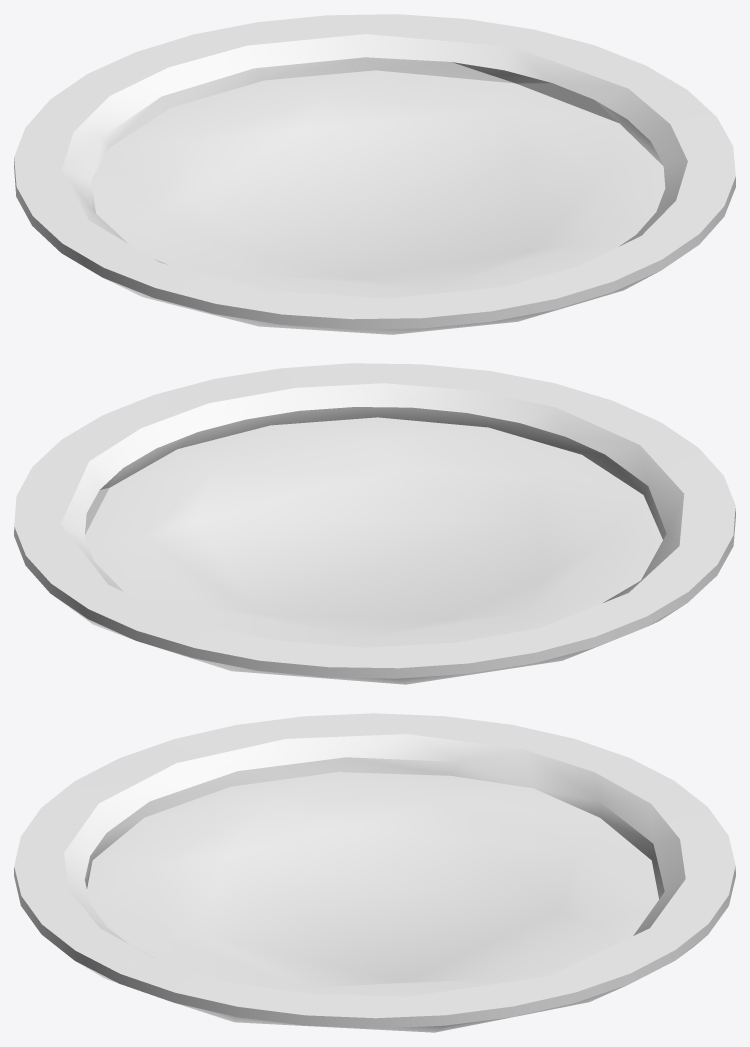
The model's file is TarelKa V 2.0.fbx.
3 views of the same model, one above another, from view 1: azimuth 30°, elevation 25°; view 2: azimuth 150°, elevation 25°; view 3: azimuth 270°, elevation 25° (orthographic).
Visible parts, largest first — view 1: Тарелка.025; view 2: Тарелка.025; view 3: Тарелка.025.
Part boxes in pixels (x1,y1,x2,y2): Тарелка.025: (14,14,735,334); Тарелка.025: (14,363,735,684); Тарелка.025: (14,713,735,1032).
Size of the model in its own units: 25.57 by 1.72 by 25.57.
1 material, 1 textured.
